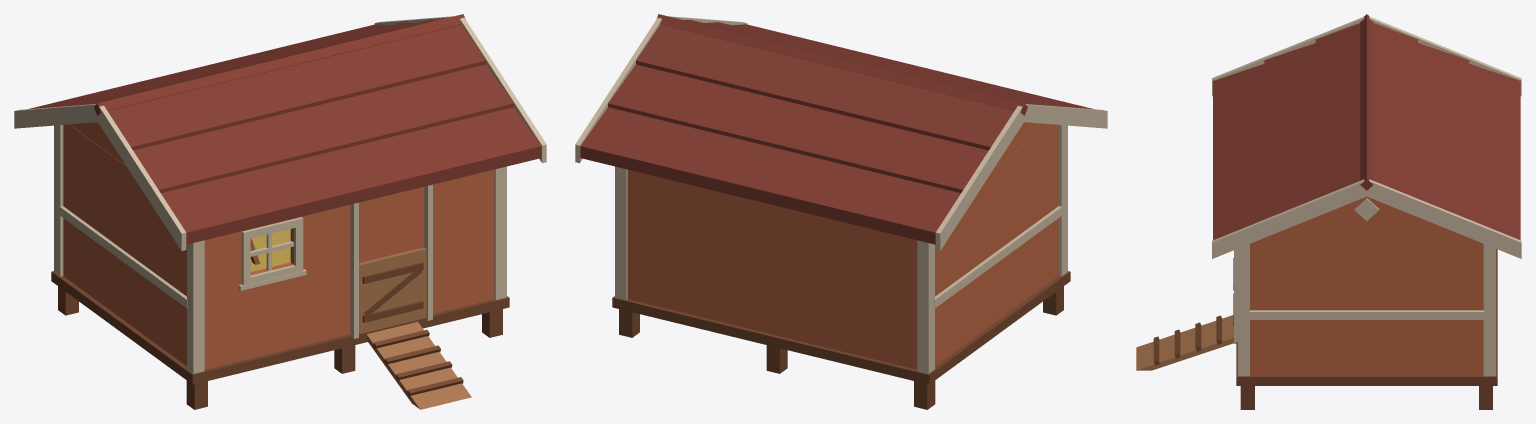
Rendered from coop.glb.
The picture shows the model from 3 angles, left to right: view 1: azimuth 30°, elevation 25°; view 2: azimuth 150°, elevation 25°; view 3: azimuth 270°, elevation 25°; orthographic projection. The views are drawn at different scales.
Parts seen in each view (by area): view 1: roof_shell, front_board, side_board_R, floor, ridge_cap, rake_R, ramp, pop_door_panel, corner_FR, window_frame, corner_FL, side_belt_R (+10 smaller); view 2: roof_shell, back_board, side_board_R, floor, ridge_cap, rake_R, corner_BR, corner_BL, side_belt_R, corner_FR, rake_L, gable_R (+3 smaller); view 3: roof_shell, side_board_L, rake_L, floor, gable_L, side_belt_L, ridge_cap, ramp, corner_BL, rake_R, corner_FL, door_guide_L (+1 smaller).
Boxes of the visible parts, x1=… form: roof_shell: x1=28, y1=20, x2=541, y2=244; front_board: x1=204, y1=169, x2=494, y2=369; side_board_R: x1=63, y1=124, x2=186, y2=365; floor: x1=51, y1=271, x2=509, y2=384; ridge_cap: x1=94, y1=14, x2=465, y2=115; rake_R: x1=14, y1=104, x2=186, y2=250; ramp: x1=366, y1=321, x2=471, y2=409; pop_door_panel: x1=359, y1=247, x2=426, y2=334; corner_FR: x1=187, y1=240, x2=204, y2=373; window_frame: x1=241, y1=217, x2=303, y2=285; corner_FL: x1=494, y1=166, x2=506, y2=299; side_belt_R: x1=59, y1=206, x2=187, y2=308; roof_shell: x1=580, y1=20, x2=1093, y2=244; back_board: x1=627, y1=169, x2=917, y2=369; side_board_R: x1=935, y1=124, x2=1058, y2=365; floor: x1=612, y1=271, x2=1070, y2=384; ridge_cap: x1=656, y1=14, x2=1027, y2=115; rake_R: x1=935, y1=104, x2=1107, y2=250; corner_BR: x1=917, y1=240, x2=934, y2=373; corner_BL: x1=615, y1=166, x2=627, y2=299; side_belt_R: x1=934, y1=206, x2=1062, y2=308; corner_FR: x1=1058, y1=125, x2=1067, y2=276; rake_L: x1=575, y1=16, x2=747, y2=163; gable_R: x1=996, y1=122, x2=1051, y2=165; roof_shell: x1=1213, y1=23, x2=1520, y2=240; side_board_L: x1=1250, y1=231, x2=1483, y2=374; rake_L: x1=1212, y1=179, x2=1521, y2=258; floor: x1=1236, y1=249, x2=1497, y2=385; gable_L: x1=1282, y1=196, x2=1451, y2=230; side_belt_L: x1=1249, y1=310, x2=1484, y2=319; ridge_cap: x1=1360, y1=14, x2=1373, y2=190; ramp: x1=1136, y1=315, x2=1233, y2=370; corner_BL: x1=1483, y1=244, x2=1495, y2=376; rake_R: x1=1212, y1=16, x2=1521, y2=96; corner_FL: x1=1238, y1=244, x2=1249, y2=376; door_guide_L: x1=1234, y1=249, x2=1237, y2=343.
Size of the model in its own units: 3.56 by 2.45 by 3.51.
